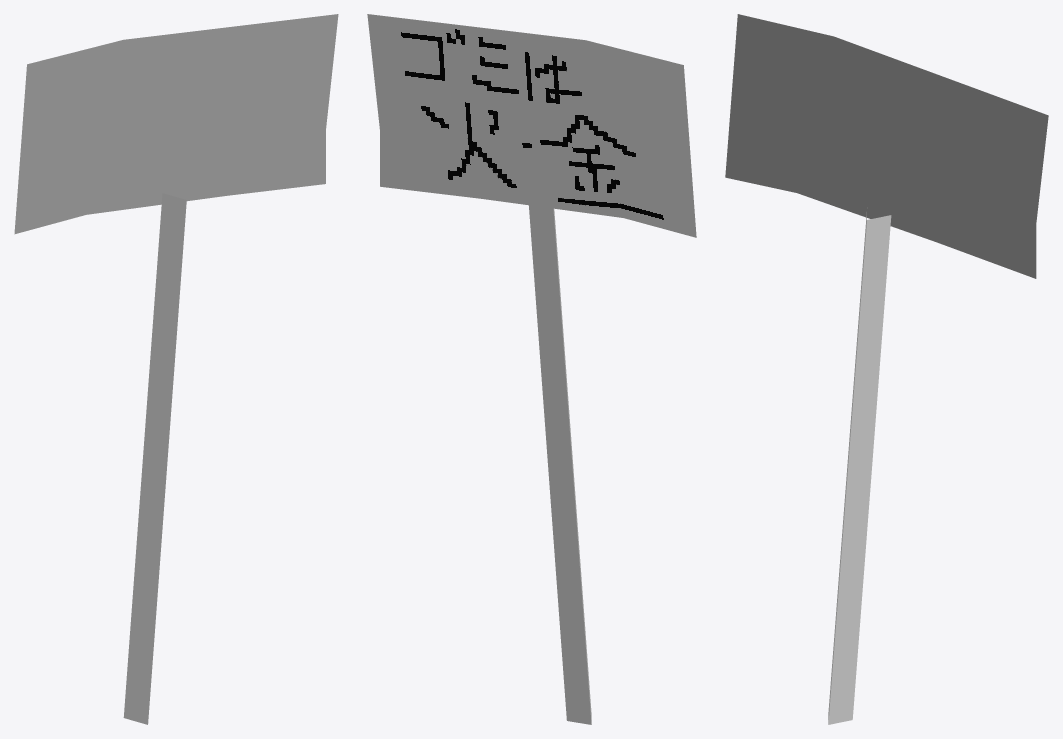
The model's file is K_GOMI01.glb.
3 views of the same model, side by side, from view 1: azimuth 30°, elevation 25°; view 2: azimuth 150°, elevation 25°; view 3: azimuth 330°, elevation 25° (orthographic).
Visible parts, largest first — view 1: FRAME_ROOT; view 2: FRAME_ROOT; view 3: FRAME_ROOT.
Boxes of the visible parts, <box> form: FRAME_ROOT: <box>14,14,338,724</box>; FRAME_ROOT: <box>367,14,696,724</box>; FRAME_ROOT: <box>725,14,1048,724</box>.
Size of the model in its own units: 2.76 by 5.52 by 0.2233.
2 materials, 2 textured.
